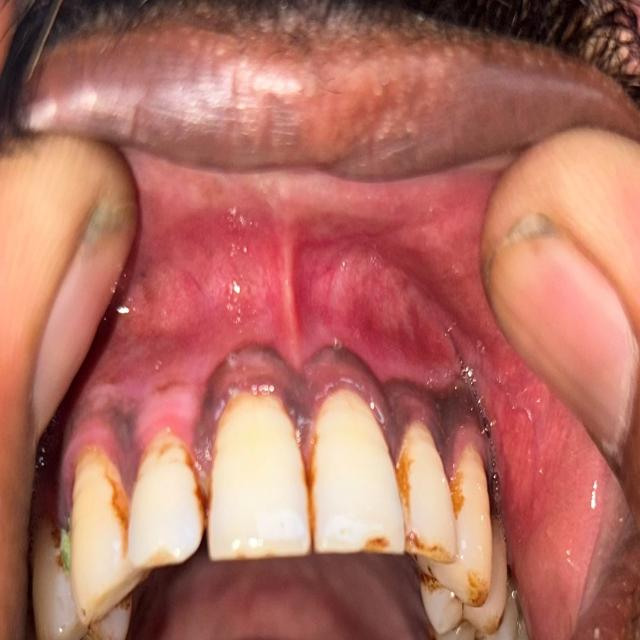processing_area: (54, 148, 596, 609)
